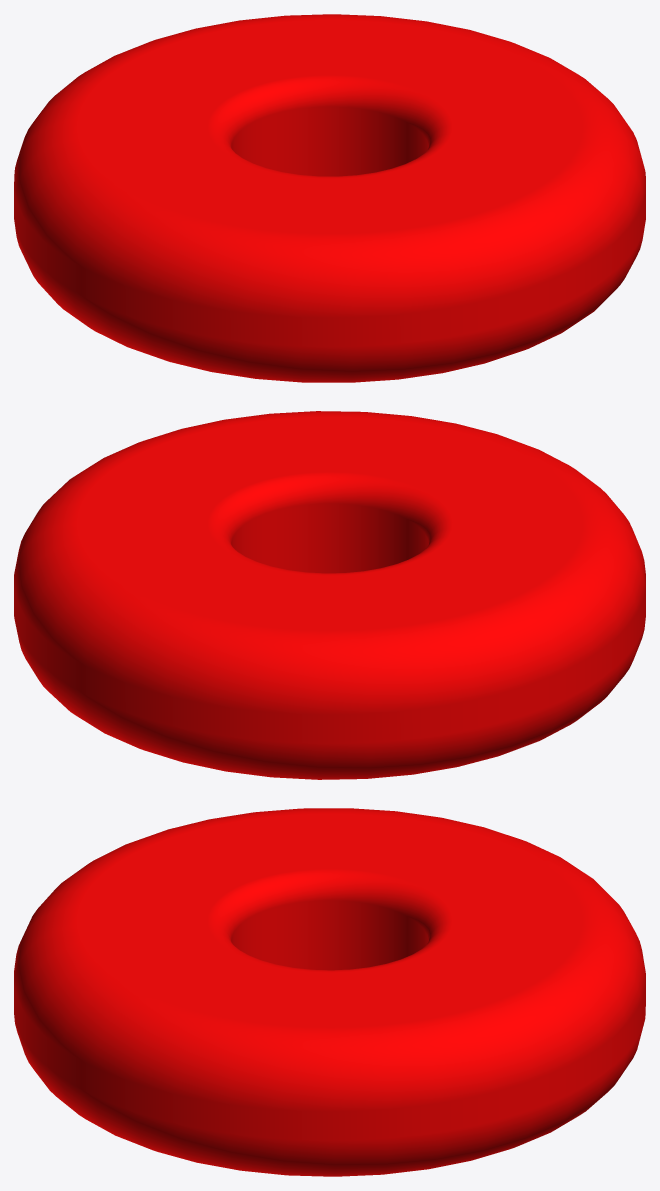
File: disk4.dae
The picture shows the model from 3 angles, top to bottom: view 1: azimuth 30°, elevation 25°; view 2: azimuth 150°, elevation 25°; view 3: azimuth 270°, elevation 25°; orthographic projection.
Parts seen in each view (by area): view 1: ID2; view 2: ID2; view 3: ID2.
Boxes of the visible parts, x1,y1,x2,y2 form: ID2: [14, 14, 645, 382]; ID2: [14, 411, 645, 779]; ID2: [14, 808, 645, 1176].
Bounding box in the file's own units: 0.04 × 0.04 × 0.01.
